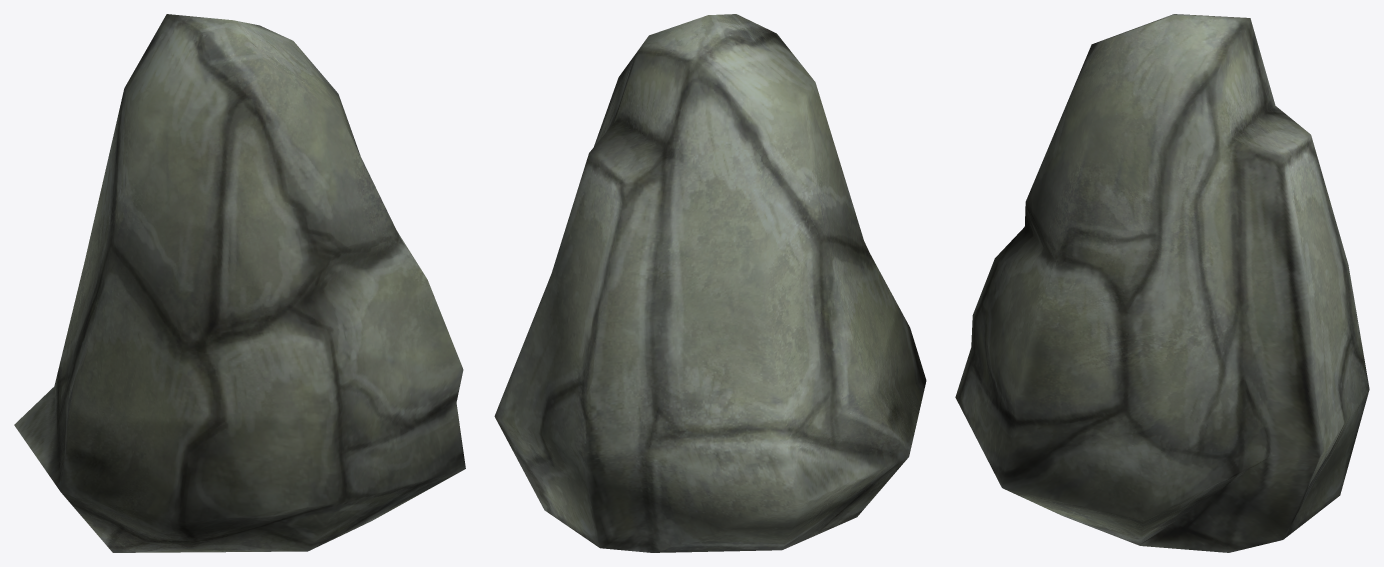
The model's file is beach rock pointy.FBX.
The picture shows the model from 3 angles, left to right: view 1: azimuth 30°, elevation 25°; view 2: azimuth 150°, elevation 25°; view 3: azimuth 270°, elevation 25°; orthographic projection. The views are drawn at different scales.
Parts seen in each view (by area): view 1: Object002; view 2: Object002; view 3: Object002.
Boxes of the visible parts, <box> form: Object002: <box>14,14,465,552</box>; Object002: <box>494,14,926,552</box>; Object002: <box>955,14,1369,552</box>.
Size of the model in its own units: 2.4 by 3.11 by 2.39.
